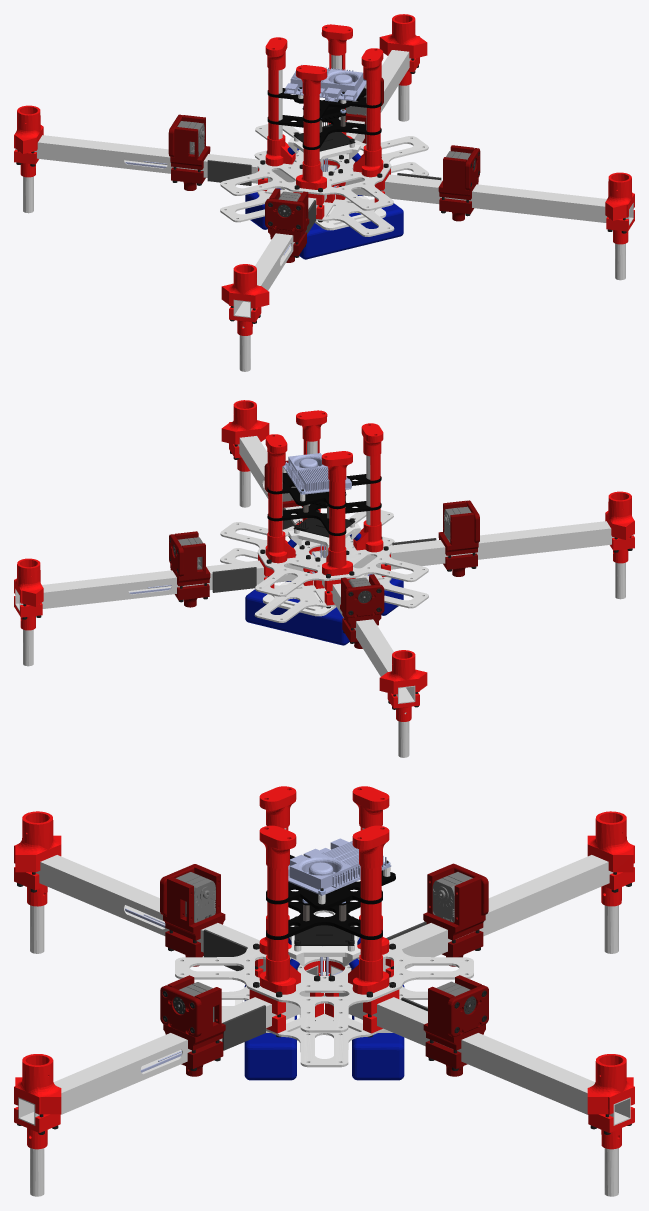
Rendered from base_link_beetle_art.dae.
3 views of the same model, one above another, from view 1: azimuth 30°, elevation 25°; view 2: azimuth 150°, elevation 25°; view 3: azimuth 270°, elevation 25° (orthographic). The views are drawn at different scales.
Parts seen in each view (by area): view 1: Shape_IndexedFaceSet.079; view 2: Shape_IndexedFaceSet.079; view 3: Shape_IndexedFaceSet.079.
Boxes of the visible parts, box(x1,y1,x2,y2) form: Shape_IndexedFaceSet.079: box(14, 14, 634, 371); Shape_IndexedFaceSet.079: box(14, 400, 634, 757); Shape_IndexedFaceSet.079: box(14, 786, 634, 1196).
Bounding box in the file's own units: 0.5202 × 0.5202 × 0.239.
